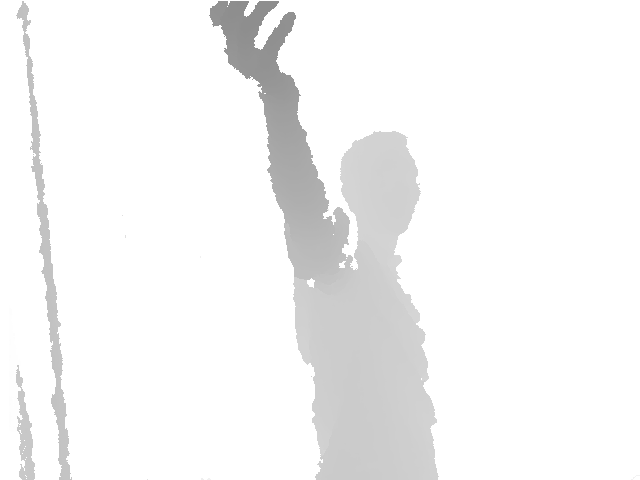hand: (209, 1, 301, 97)
head: (338, 131, 422, 241)
person: (208, 1, 440, 480)
